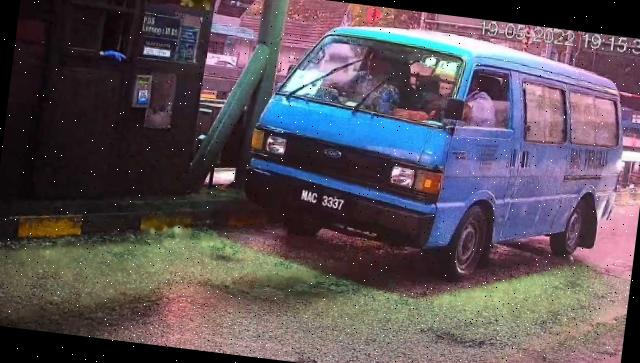License_Plate: (294, 188, 349, 215)
van: (237, 12, 635, 301)
